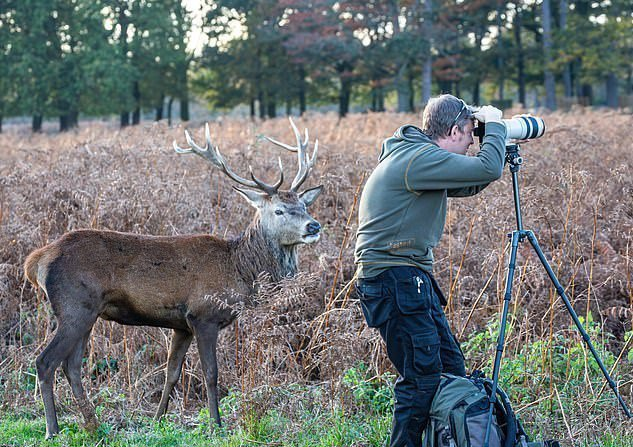bag: (410, 368, 558, 447)
camera: (474, 104, 546, 143)
deer: (17, 111, 328, 444)
person: (348, 90, 507, 447)
